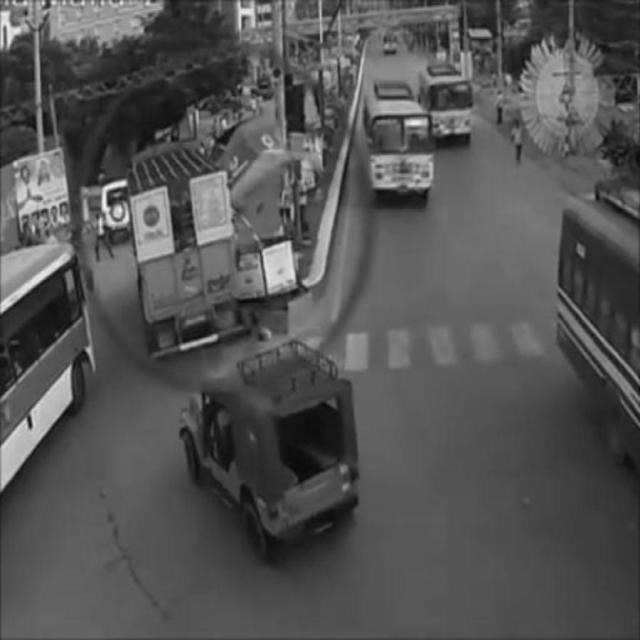accident: (122, 179, 310, 344)
person: (510, 117, 526, 168)
vehicle: (178, 347, 358, 552), (365, 93, 431, 204), (423, 69, 478, 140)
